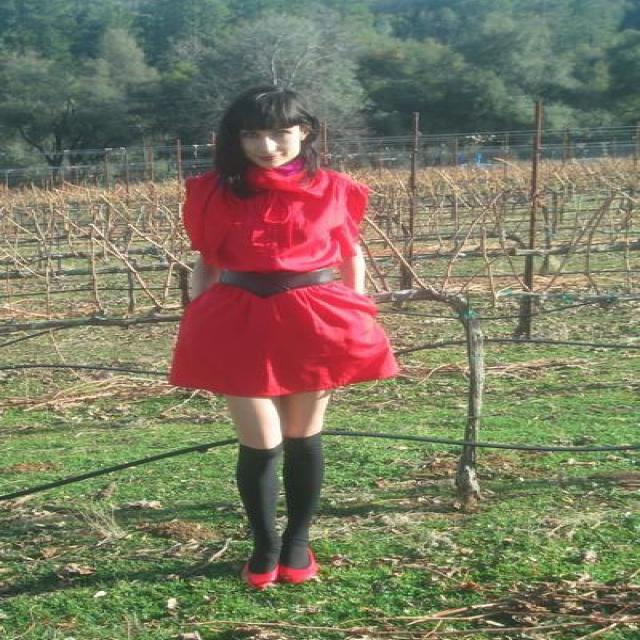dress: (157, 162, 405, 396)
shoe: (253, 554, 320, 588)
